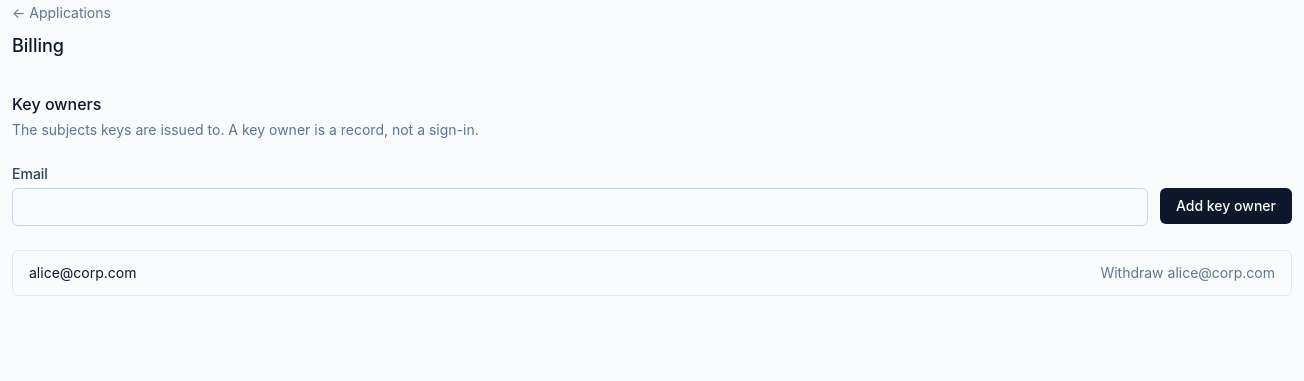
surfaces a duplicate-email conflict from the API
Expected: the list named "key owners" is shown, [12,250,1292,296]
Type "alice@corp.com" into the field labelled "Email" at (580, 207), box [12,188,1148,226]
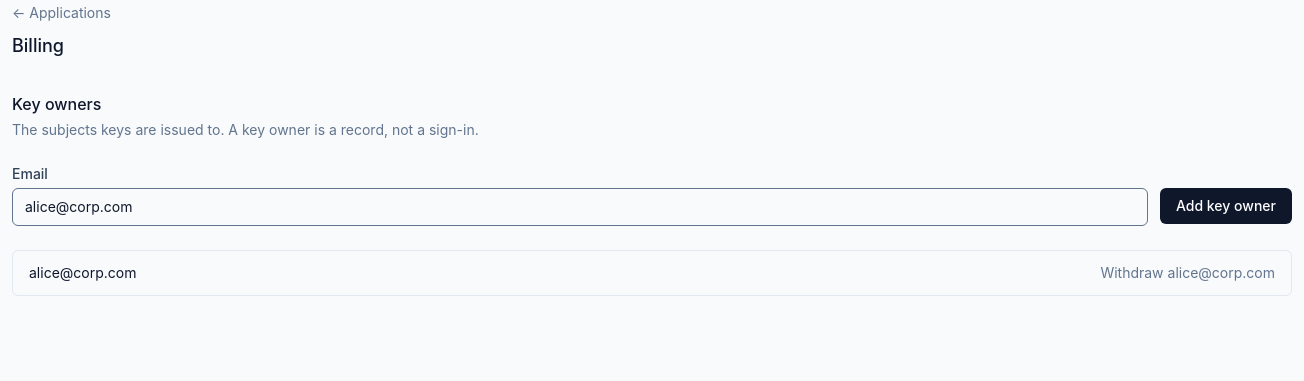
Click the button "Add key owner" at (1226, 206), box [1160,188,1292,224]
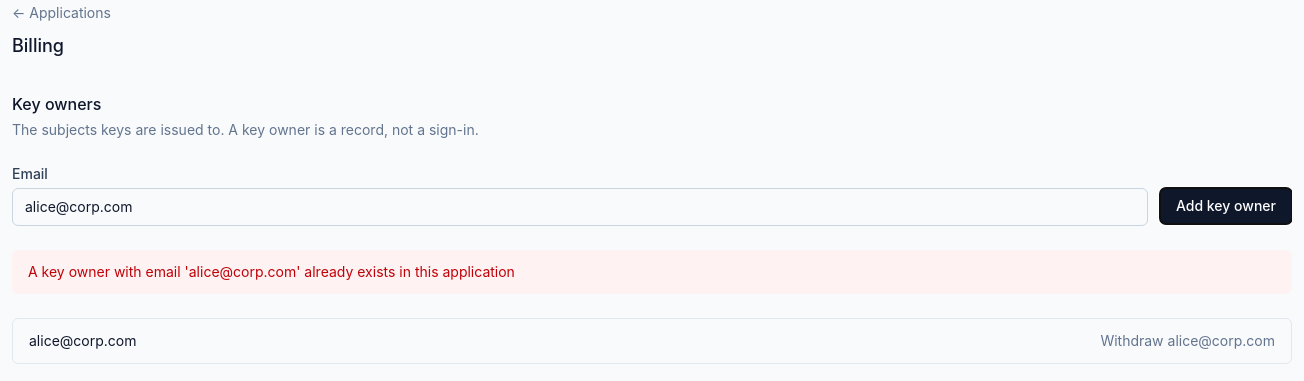
Result: the message shows "already exists" at [28,263,515,280]
